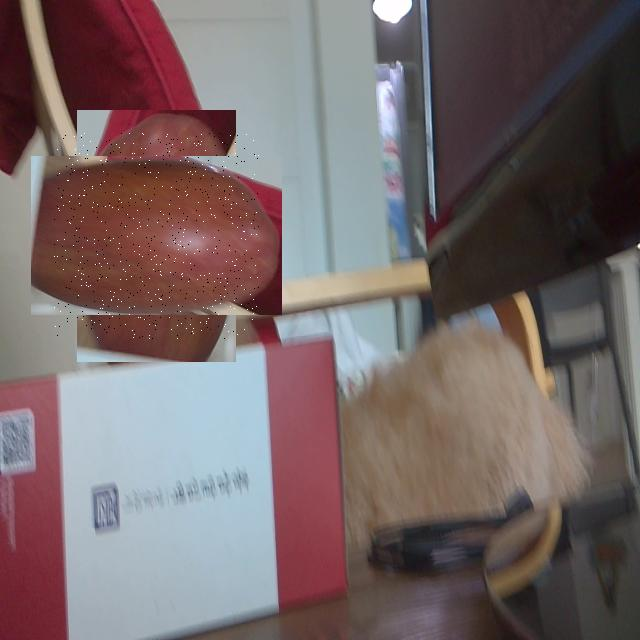apple: (54, 133, 259, 339)
